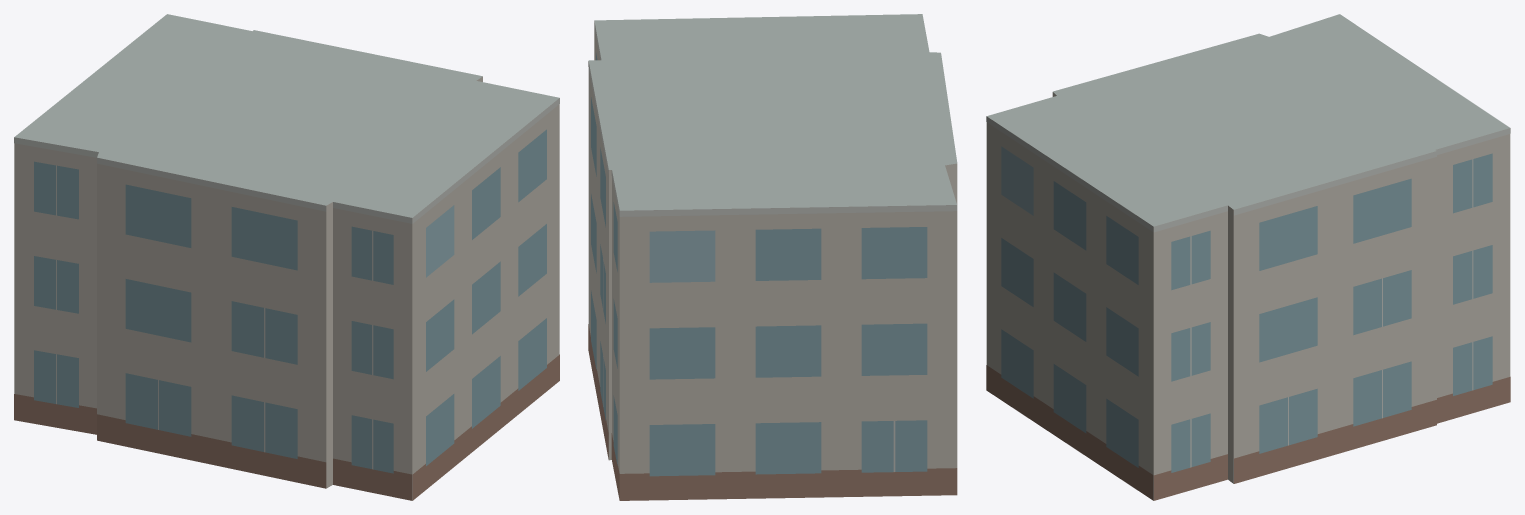
File: survey-upis-32910915.glb
3 renders of one model, left to right at view 1: azimuth 30°, elevation 25°; view 2: azimuth 150°, elevation 25°; view 3: azimuth 270°, elevation 25°, orthographic. The views are drawn at different scales.
Parts seen in each view (by area): view 1: survey-upis-32910915.tmp; view 2: survey-upis-32910915.tmp; view 3: survey-upis-32910915.tmp.
Part boxes in pixels (<box>): survey-upis-32910915.tmp: <box>14,14,559,500</box>; survey-upis-32910915.tmp: <box>588,14,957,500</box>; survey-upis-32910915.tmp: <box>986,14,1510,500</box>.
Size of the model in its own units: 19.14 by 11.5 by 19.92.
